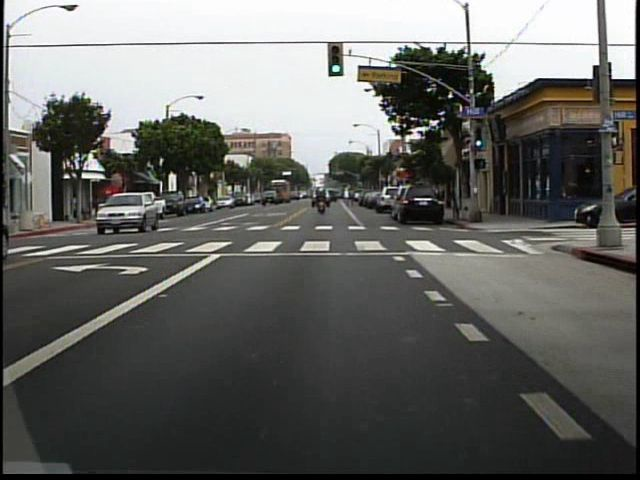person: (316, 188, 329, 215)
